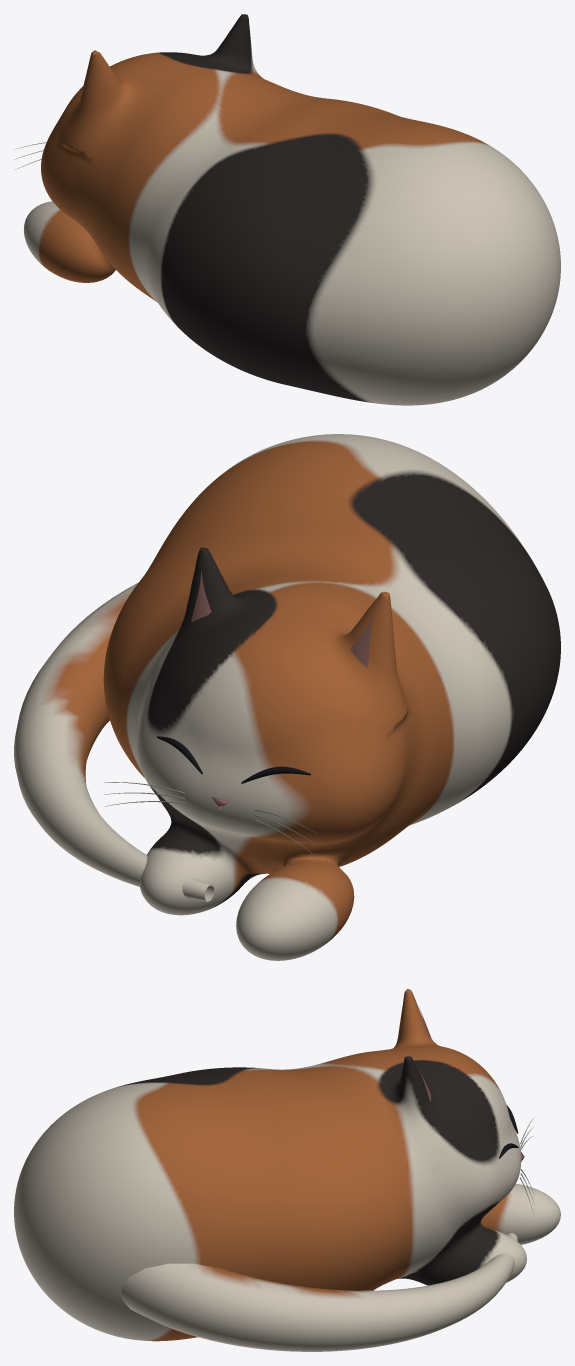
Rendered from curled_calico.glb.
The picture shows the model from 3 angles, top to bottom: view 1: azimuth 30°, elevation 25°; view 2: azimuth 150°, elevation 25°; view 3: azimuth 270°, elevation 25°; orthographic projection. The views are drawn at different scales.
Parts seen in each view (by area): view 1: RestingKitten; view 2: RestingKitten; view 3: RestingKitten.
Boxes of the visible parts, x1=… form: RestingKitten: x1=14, y1=14, x2=560, y2=405; RestingKitten: x1=14, y1=434, x2=560, y2=960; RestingKitten: x1=14, y1=989, x2=560, y2=1351.
Bounding box in the file's own units: 0.3505 × 0.242 × 0.4833.
